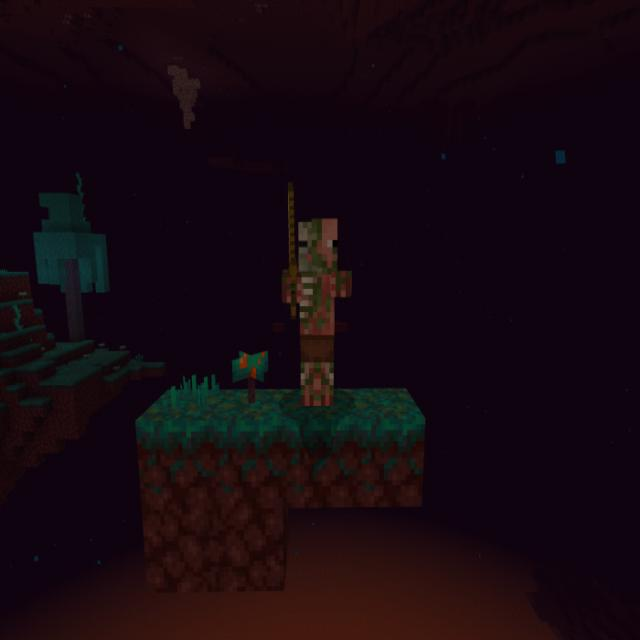Zombified Piglin: (282, 186, 353, 409)
